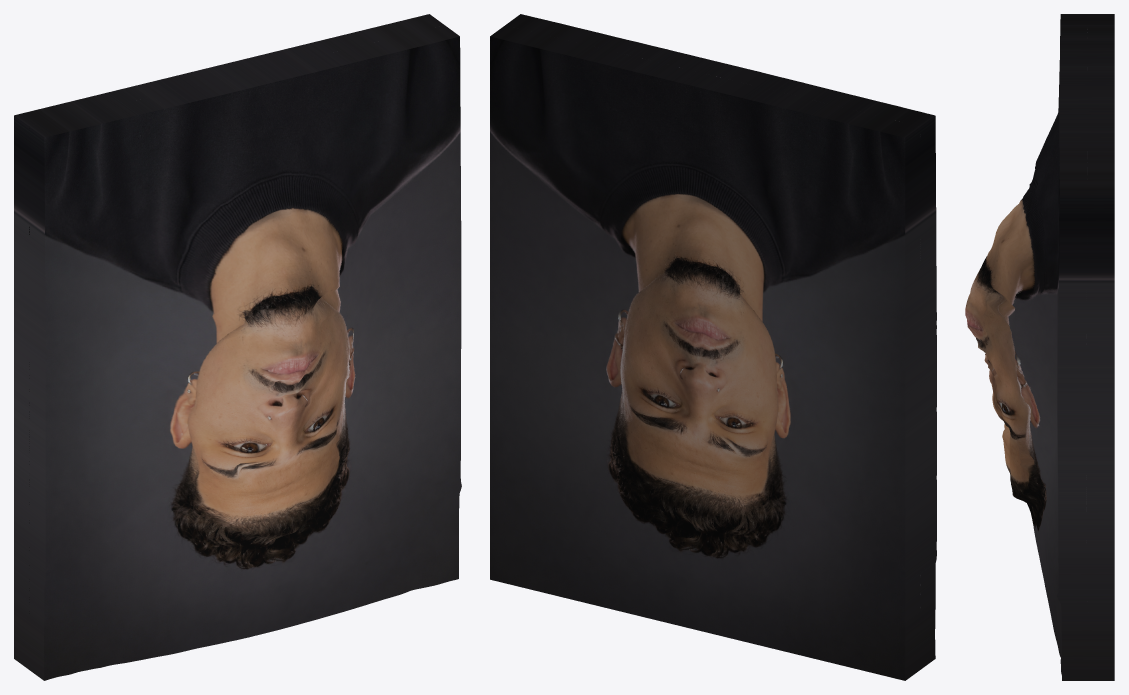
The model's file is gordao-portrait-full-bg-3d.glb.
3 renders of one model, left to right at view 1: azimuth 30°, elevation 25°; view 2: azimuth 150°, elevation 25°; view 3: azimuth 270°, elevation 25°, orthographic. The views are drawn at different scales.
Parts seen in each view (by area): view 1: cutout_depth_portrait; view 2: cutout_depth_portrait; view 3: cutout_depth_portrait.
Part boxes in pixels (x1,y1,x2,y2): cutout_depth_portrait: (14, 14, 461, 680); cutout_depth_portrait: (490, 14, 936, 680); cutout_depth_portrait: (965, 14, 1114, 680).
Size of the model in its own units: 1.6 by 2 by 0.5577.
1 material, 1 textured.
